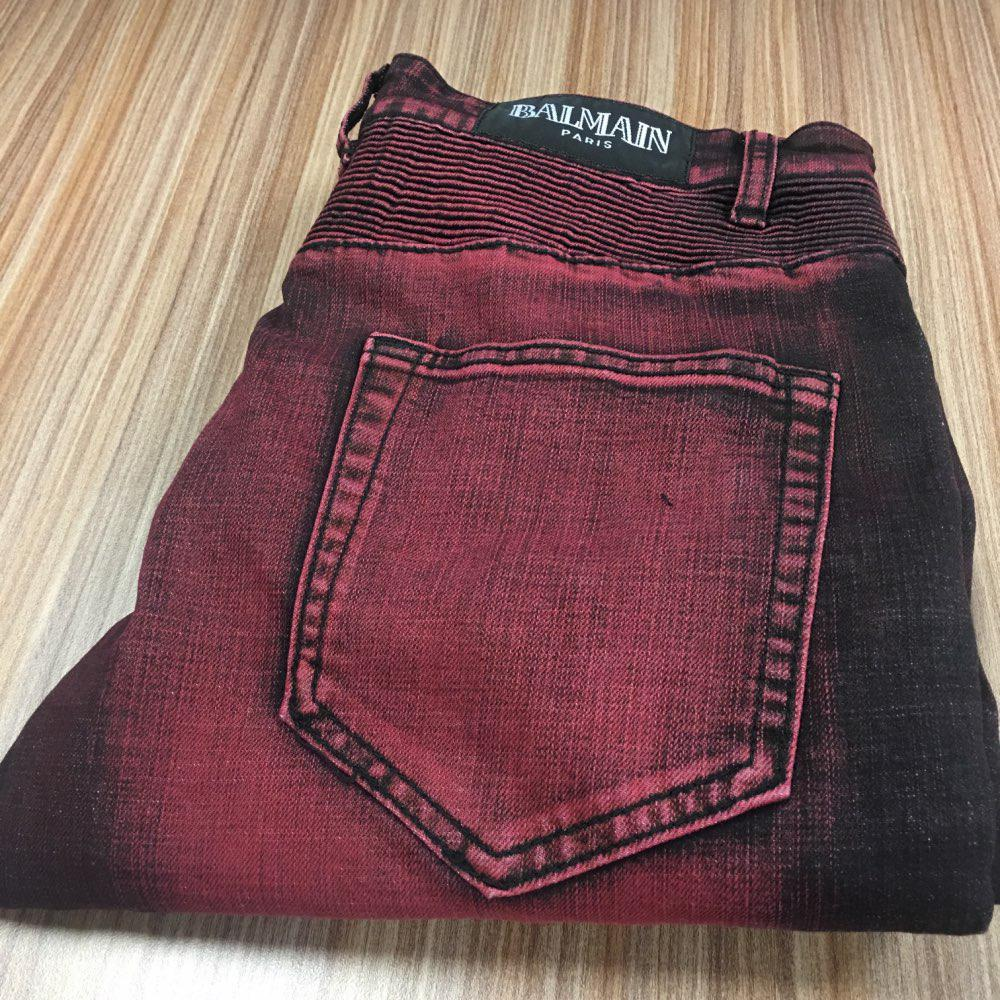jeans: (99, 84, 977, 930)
